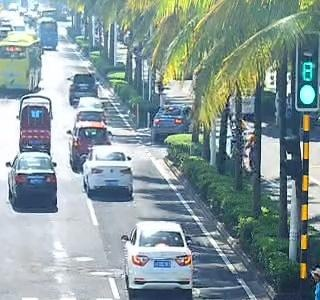greenpeople: (295, 83, 316, 105)
greentime: (297, 59, 318, 82)
